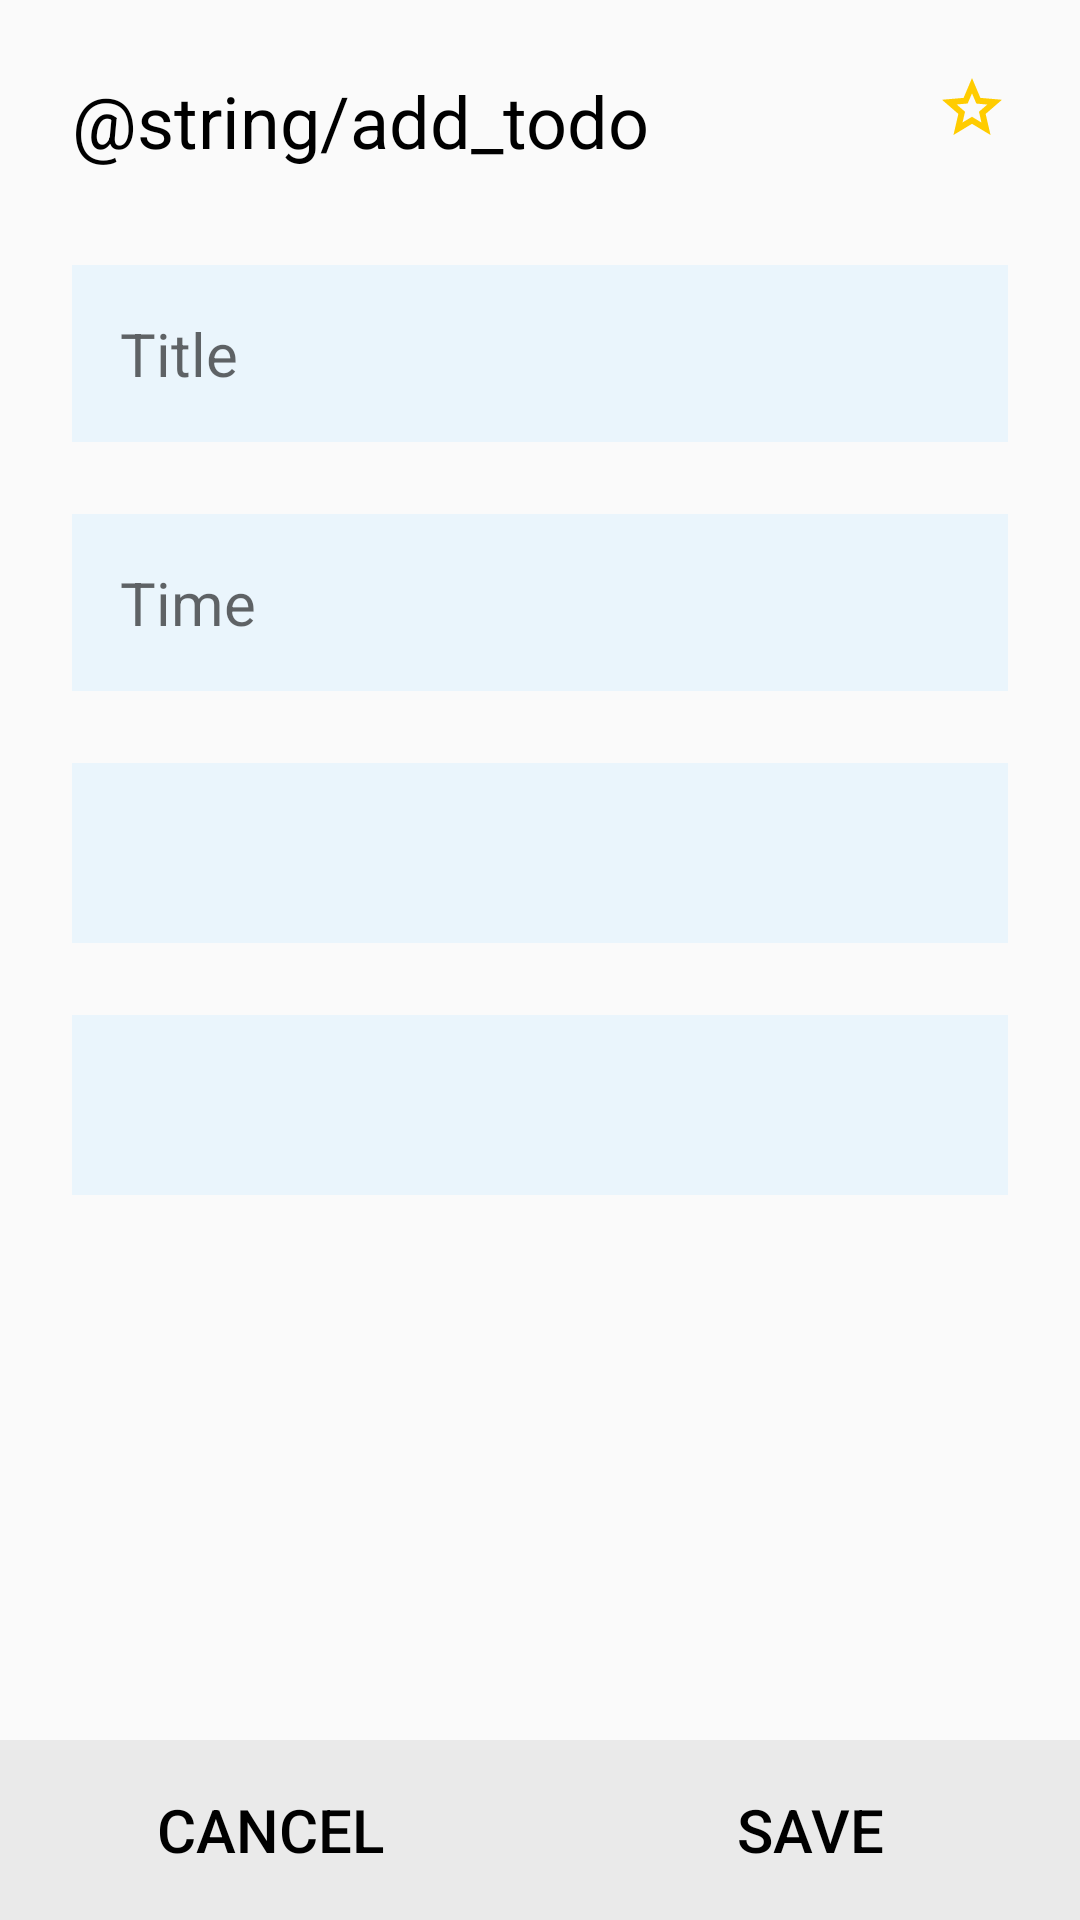

Icons on this 1080px×1920px Android screen, each with its box as (x1, y1, x2, y2):
star: (942, 78, 1002, 135)
